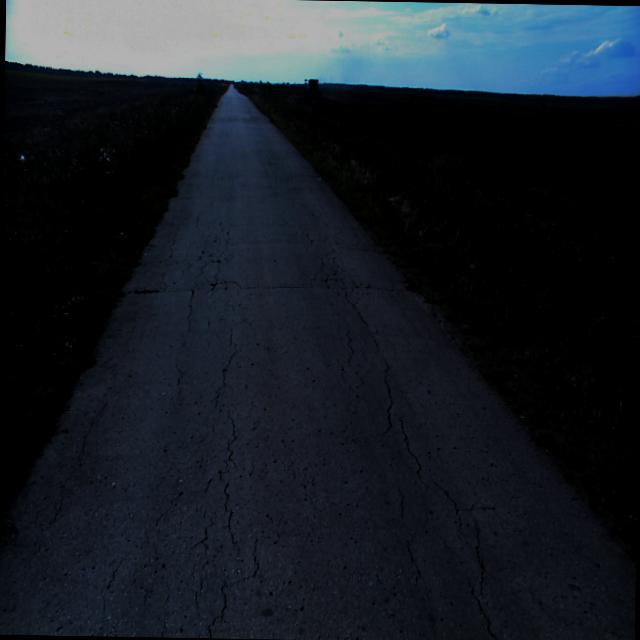road: (0, 84, 635, 640)
